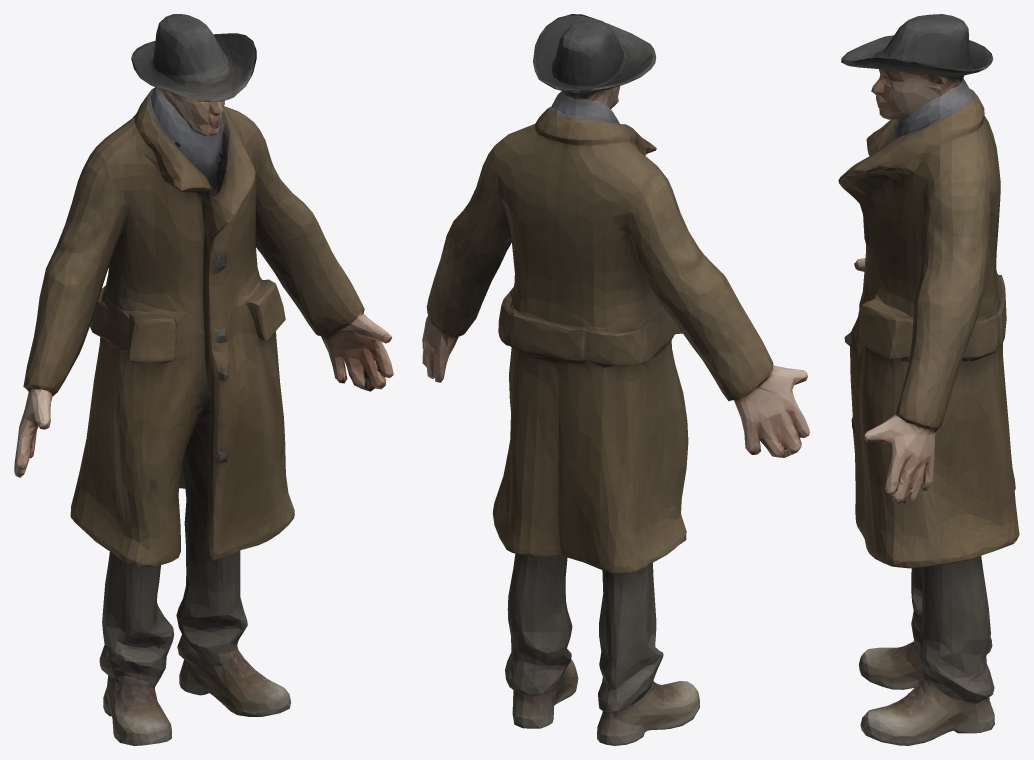
The model's file is man_sam.glb.
3 renders of one model, left to right at view 1: azimuth 30°, elevation 25°; view 2: azimuth 150°, elevation 25°; view 3: azimuth 270°, elevation 25°, orthographic.
Parts seen in each view (by area): view 1: geometry_0; view 2: geometry_0; view 3: geometry_0.
Boxes of the visible parts, <box> form: geometry_0: <box>14,14,393,745</box>; geometry_0: <box>422,14,809,745</box>; geometry_0: <box>838,14,1019,745</box>.
Bounding box in the file's own units: 0.5792 × 0.9994 × 0.2376.
Materials: 1 (1 with a texture image).
